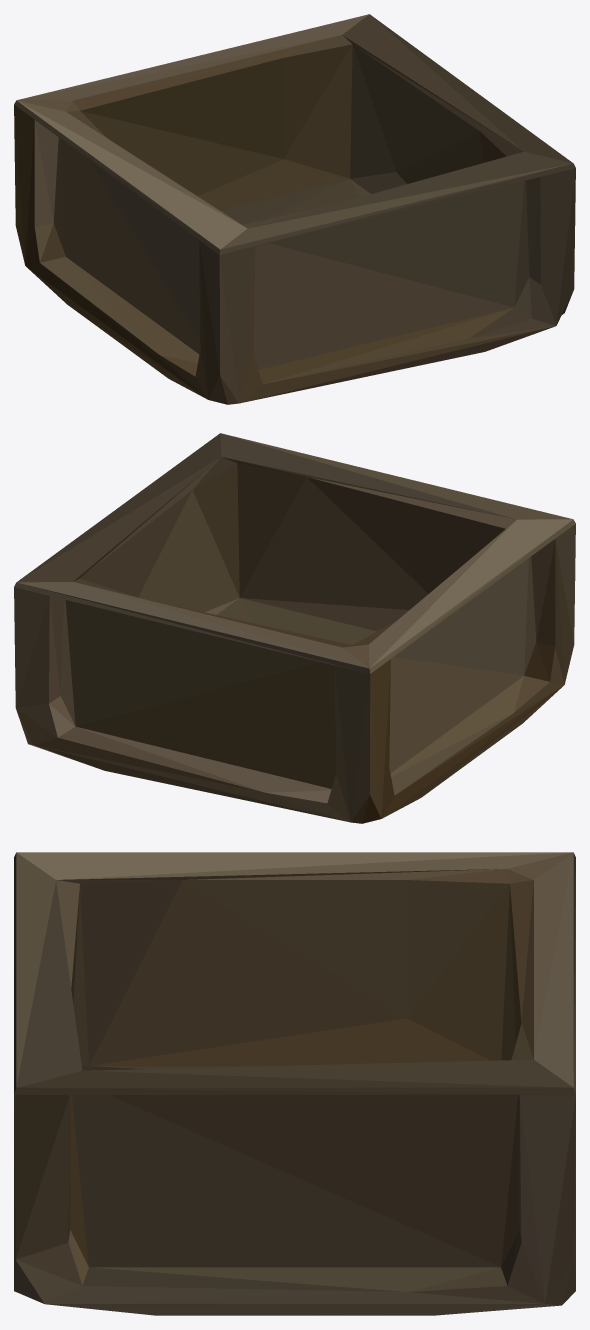
The model's file is CrateB_Bottom.fbx.
3 renders of one model, top to bottom at view 1: azimuth 30°, elevation 25°; view 2: azimuth 150°, elevation 25°; view 3: azimuth 270°, elevation 25°, orthographic. The views are drawn at different scales.
Parts seen in each view (by area): view 1: CrateB_Bottom; view 2: CrateB_Bottom; view 3: CrateB_Bottom.
Boxes of the visible parts, x1,y1,x2,y2 form: CrateB_Bottom: [14, 14, 575, 404]; CrateB_Bottom: [14, 433, 575, 823]; CrateB_Bottom: [14, 852, 575, 1315].
Size of the model in its own units: 100 by 44.9 by 100.
